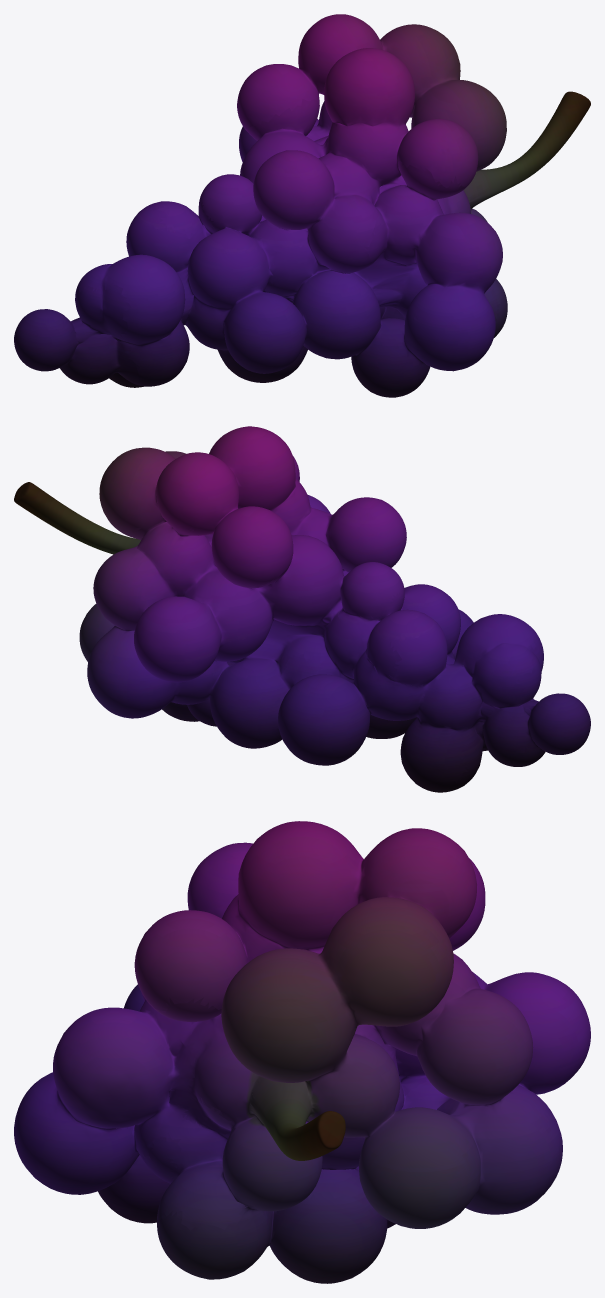
The model's file is compressed-grapes.glb.
The picture shows the model from 3 angles, top to bottom: view 1: azimuth 30°, elevation 25°; view 2: azimuth 150°, elevation 25°; view 3: azimuth 270°, elevation 25°; orthographic projection. The views are drawn at different scales.
Parts seen in each view (by area): view 1: Object_2; view 2: Object_2; view 3: Object_2.
Part boxes in pixels (x1,y1,x2,y2): Object_2: (14, 14, 590, 397); Object_2: (14, 426, 590, 792); Object_2: (14, 821, 590, 1283).
Bounding box in the file's own units: 37 × 18.26 × 22.85.
Materials: 1 (1 with a texture image).
